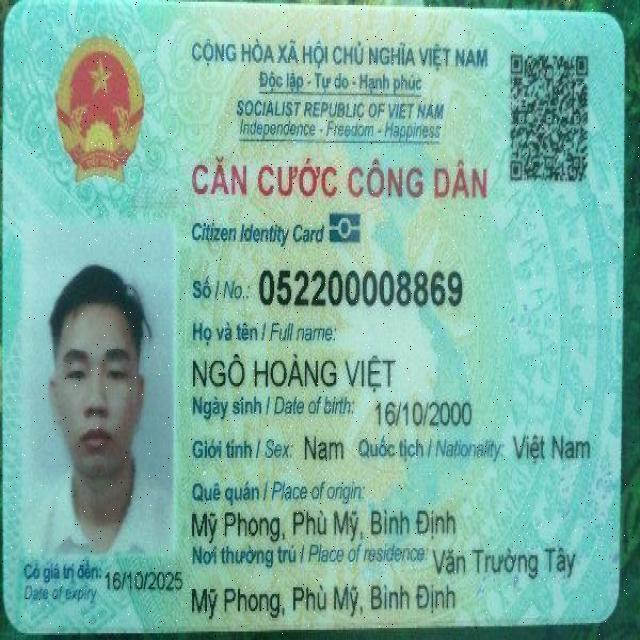current_place: (187, 573, 462, 622), (432, 540, 575, 581)
dob: (374, 397, 475, 431)
expire_date: (103, 566, 183, 595)
gender: (299, 431, 347, 463)
id: (256, 263, 468, 314)
name: (188, 350, 401, 392)
nationality: (512, 427, 602, 466)
origin_place: (193, 504, 458, 543)
